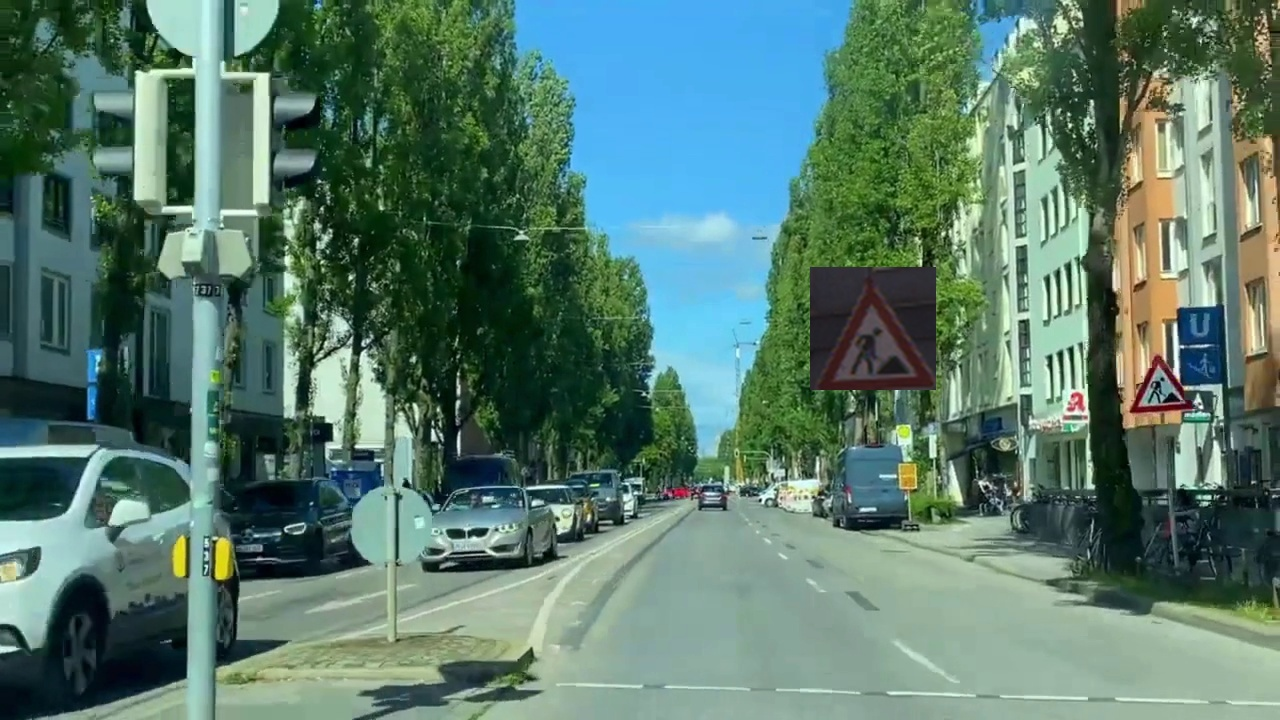Road work: (810, 267, 936, 390)
